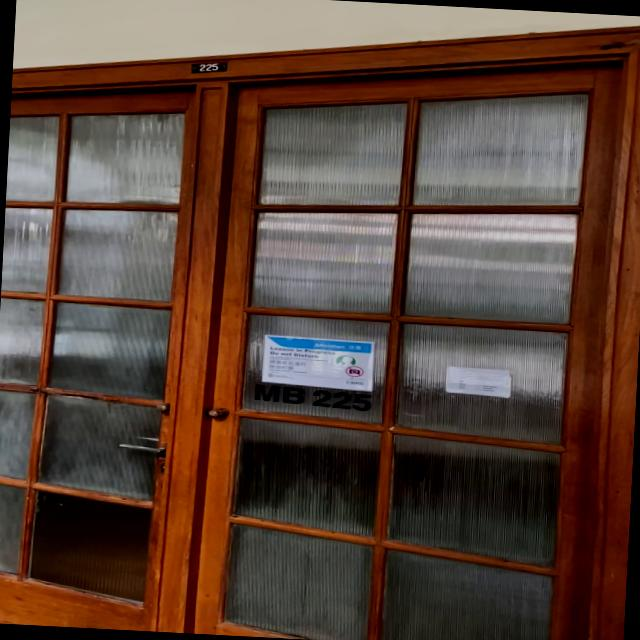room225: (186, 58, 232, 76)
room225Window: (251, 382, 377, 412)
